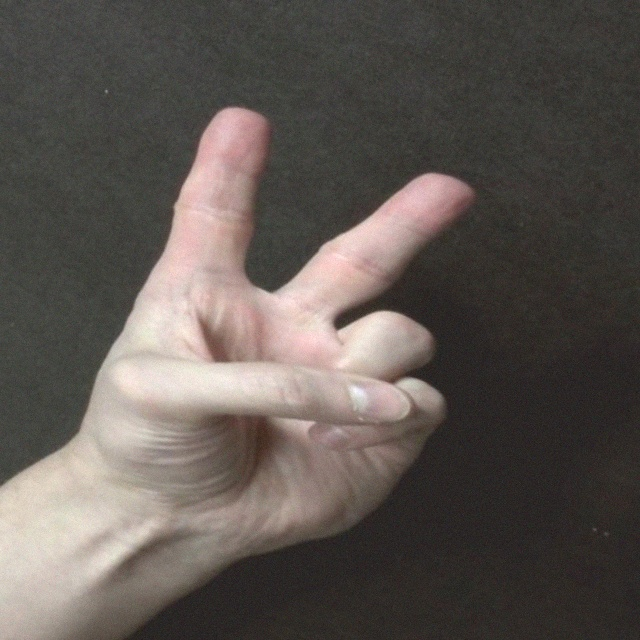Scissors: (42, 79, 536, 605)
